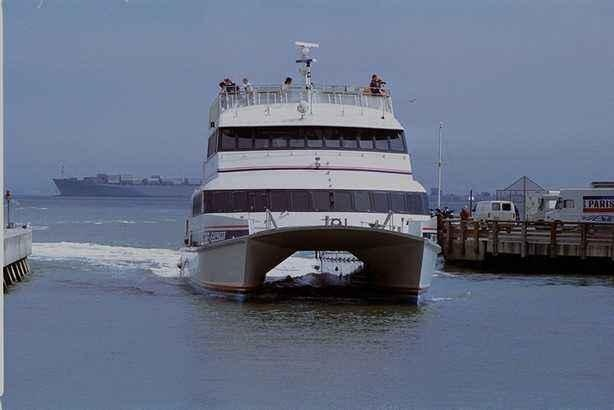yacht: (174, 53, 445, 294)
